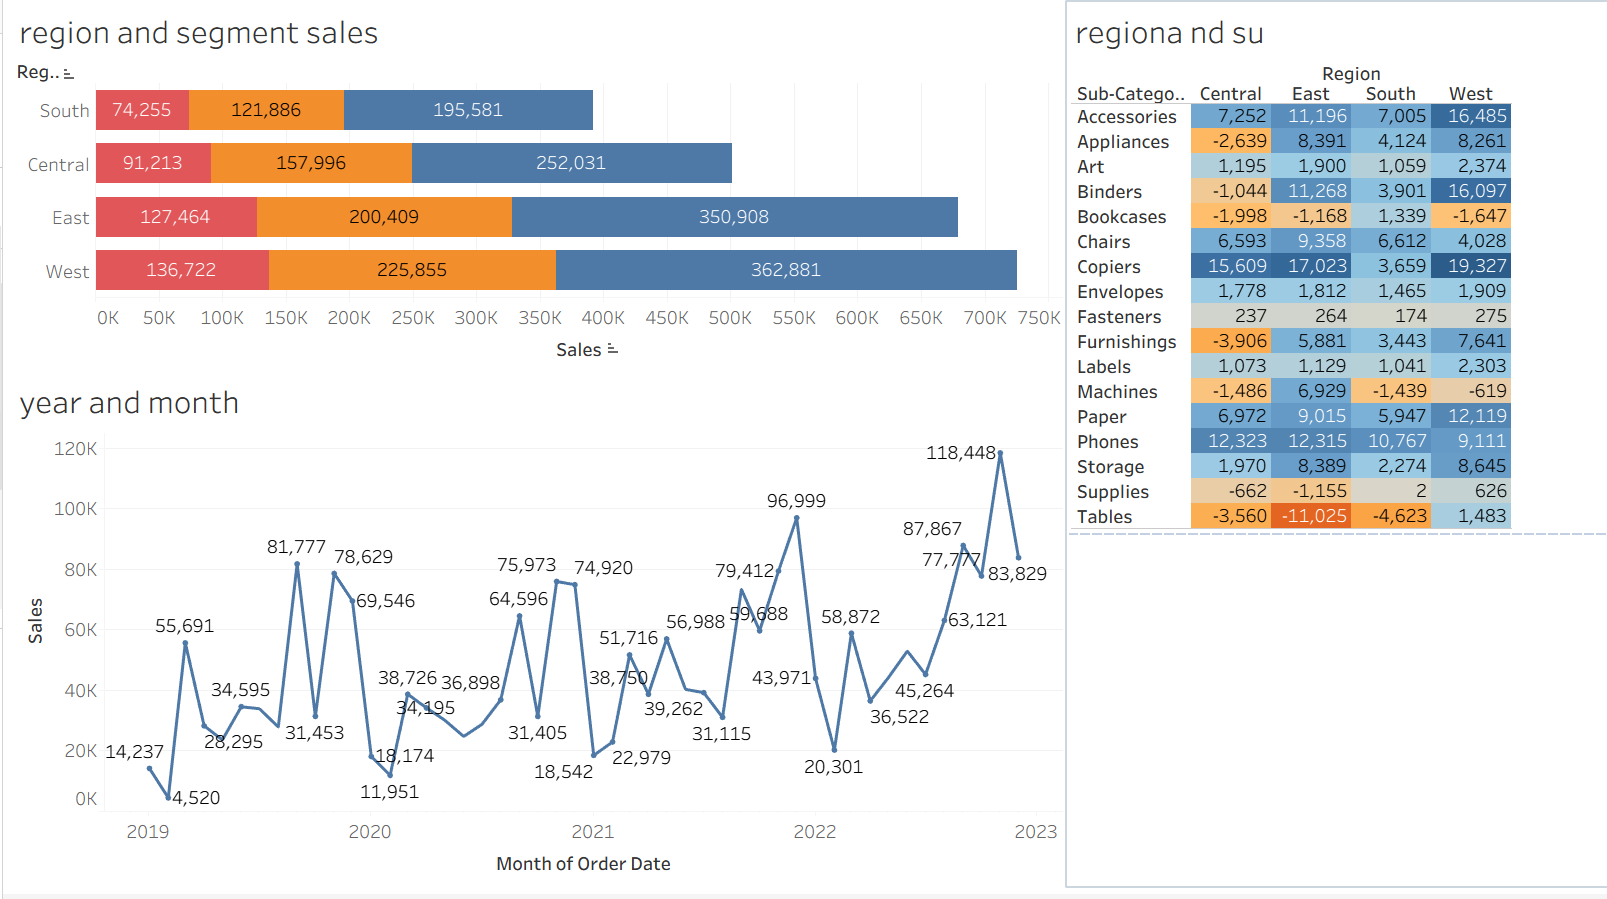

The page's visual inventory and layout, read from the dashboard file:
{"tool":"tableau","page":{"name":"Dashboard 1","canvas":[2200,900],"ordinal":0},"visuals":[{"type":"worksheet","title":"region and segment sales","mark":"Automatic","rows":["Region"],"cols":["Sales"],"box":[8,8,1056.5,370]},{"type":"worksheet","title":"regiona nd su","mark":"Square","rows":["Sub-Category"],"cols":["Region"],"box":[1064.5,8,931.5,531]},{"type":"legend","title":"region and segment sales","param":"[federated.1laaqr218jjvc71bsnb8f1rjj3i1].[none:Segment:nk]","box":[1996,8,196,109]},{"type":"legend","title":"regiona nd su","param":"[federated.1laaqr218jjvc71bsnb8f1rjj3i1].[sum:Profit:qk]","box":[1996,117,196,81]},{"type":"worksheet","title":"year and month","mark":"Automatic","rows":["Sales"],"cols":["Order Date"],"box":[8,378,1056.5,514]}]}

Visuals, with their boxes on the page's 2200x900 design canvas (x1, y1, x2, y2). These are canvas units, not pixel positions in the 1607x899 screenshot, which may show the page scaled, cropped or inside an application window:
"region and segment sales" worksheet: (8,8,1064,378)
"regiona nd su" worksheet (Square marks): (1064,8,1996,539)
"region and segment sales" legend: (1996,8,2192,117)
"regiona nd su" legend: (1996,117,2192,198)
"year and month" worksheet: (8,378,1064,892)
